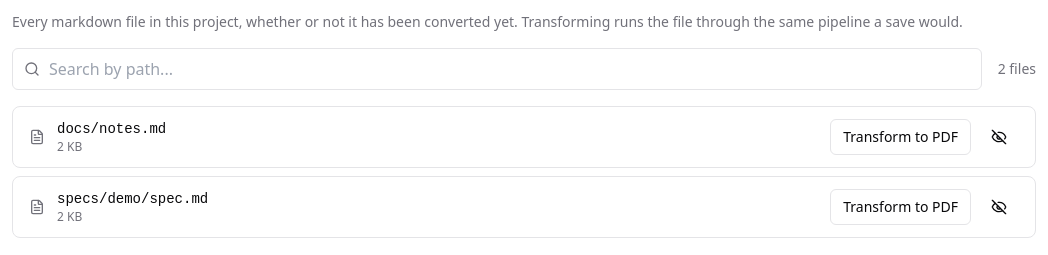
Test: ContextFilesPanel › filters the list by path as the user searches
In the field named "Search context files": coordinates (497, 69) x1=12 y1=48 x2=982 y2=90, type "specs"
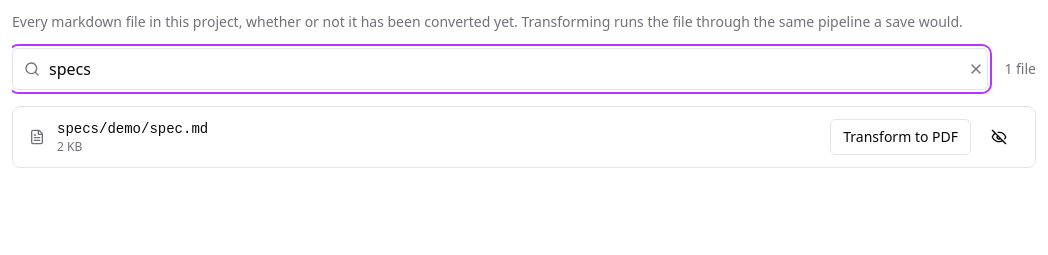
Expected: the text "specs/demo/spec.md" is shown, x1=57 y1=119 x2=208 y2=139
Now the text "docs/notes.md" is gone
